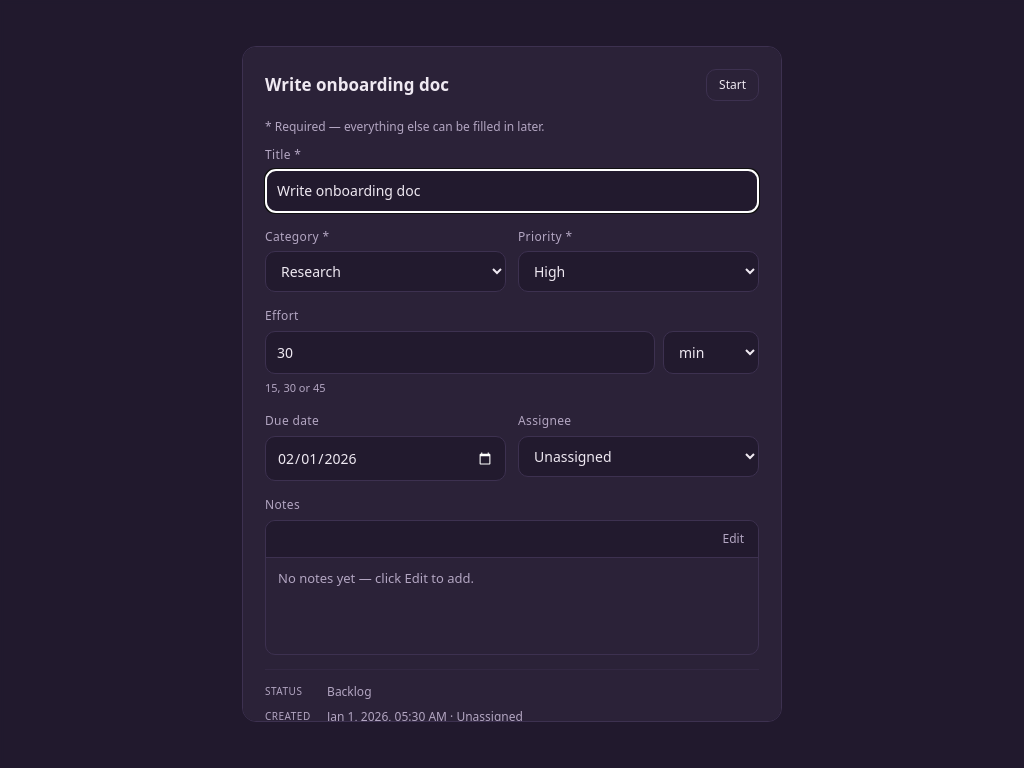
Test: ItemFormModal — status toggle › toggling status patches the item and flashes a confirmation
Step 1. Click the button "Start" → point(732, 85), box [706, 69, 759, 101]
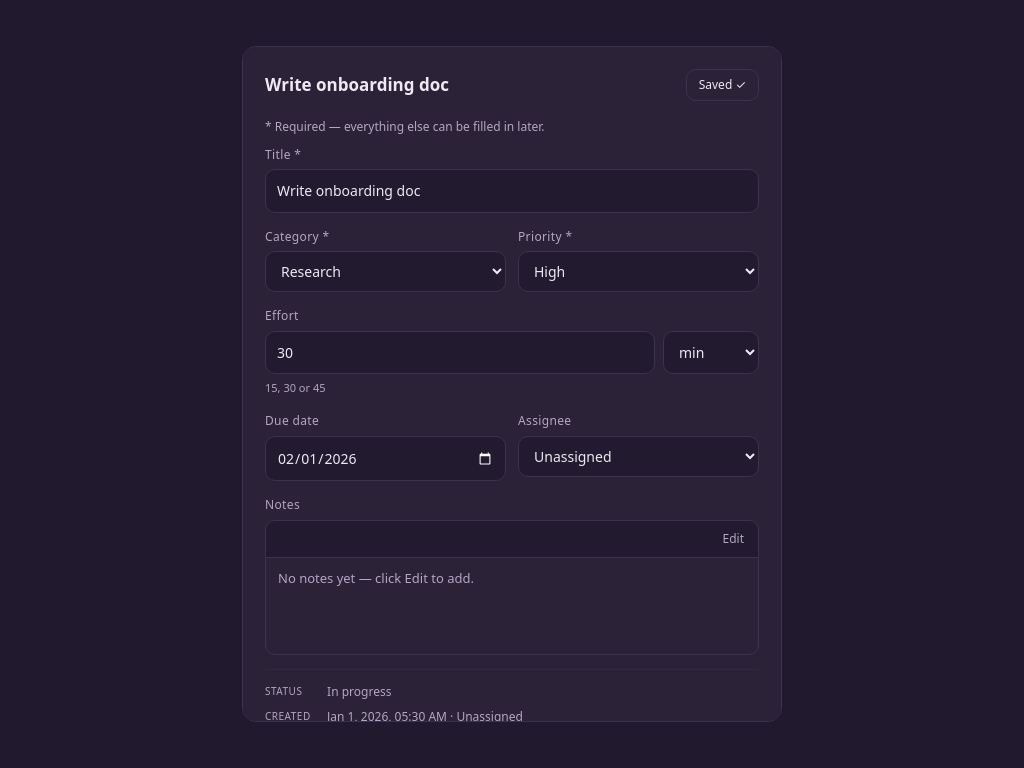
Expected: the button "Saved ✓" is shown, [686, 69, 759, 101]
